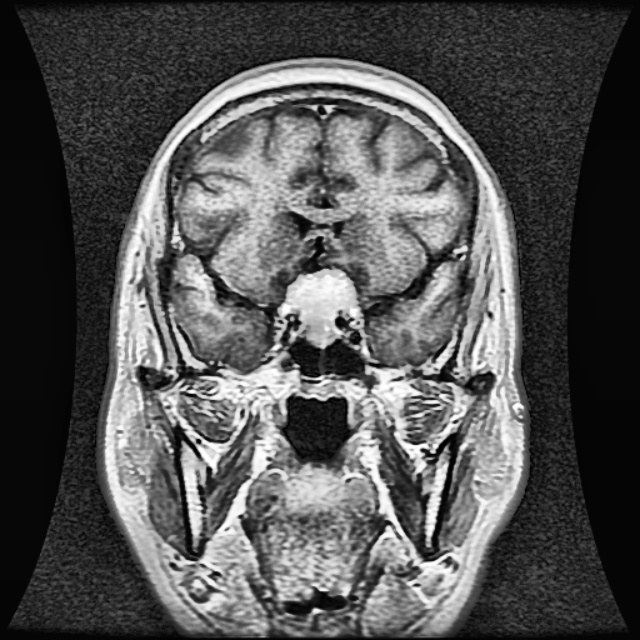Glioma: (280, 267, 359, 345)
